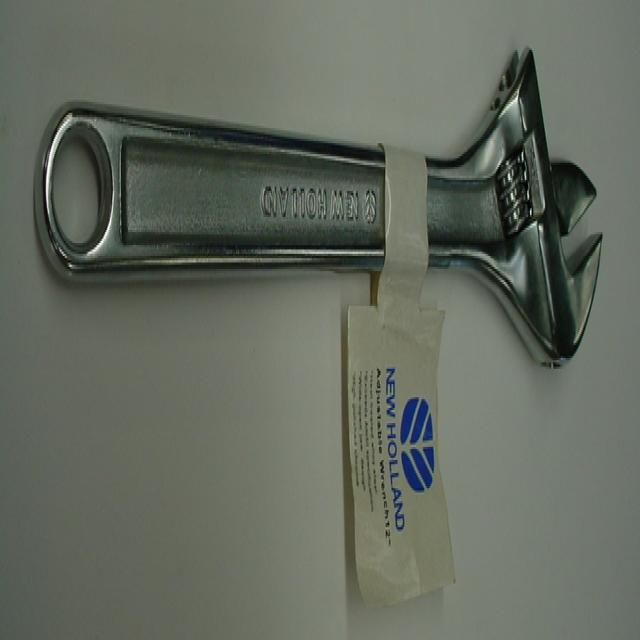wrench: (27, 35, 640, 416)
